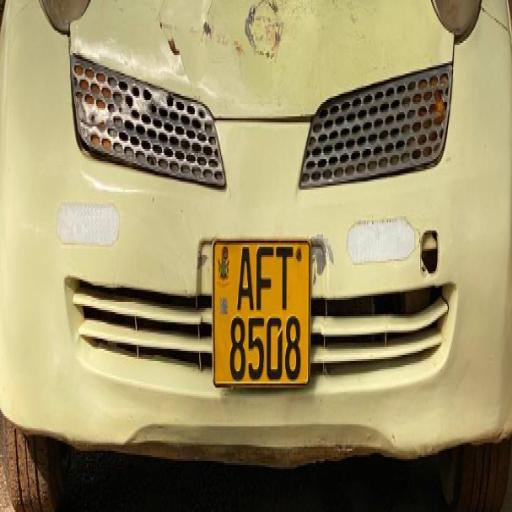number-plates: (216, 240, 306, 384)
